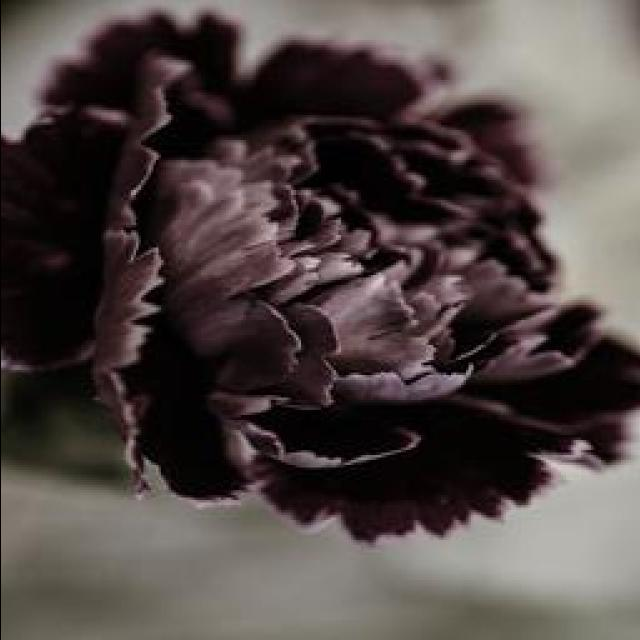carnation: (0, 19, 640, 551)
